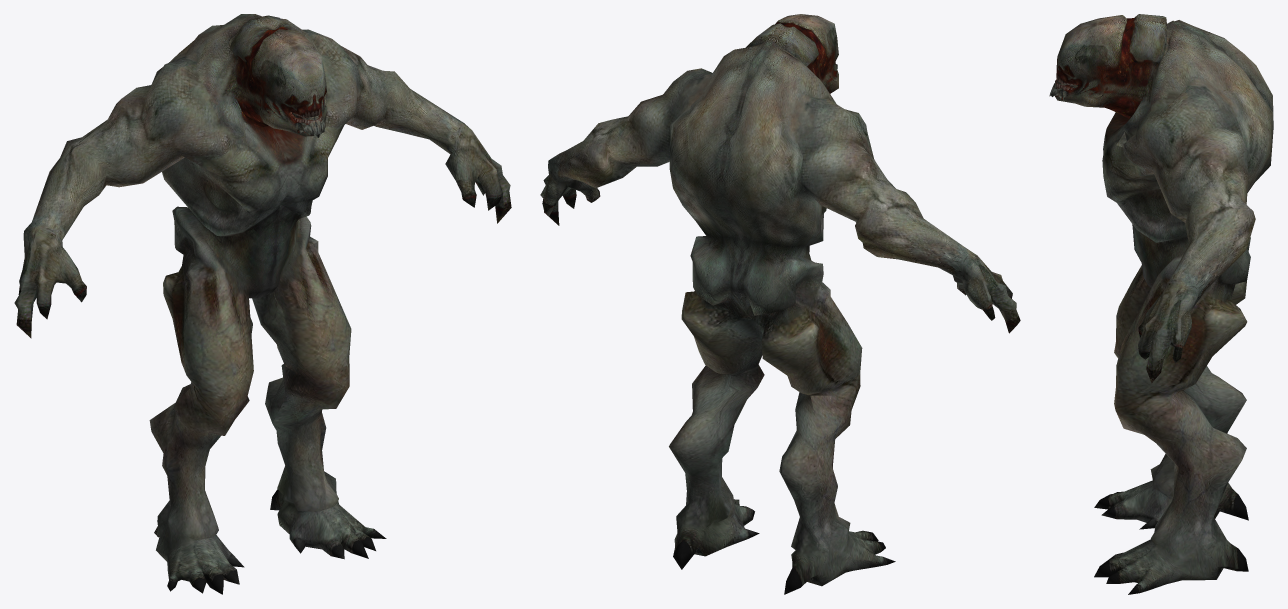
File: hellknight.DAE
The picture shows the model from 3 angles, left to right: view 1: azimuth 30°, elevation 25°; view 2: azimuth 150°, elevation 25°; view 3: azimuth 270°, elevation 25°; orthographic projection. The views are drawn at different scales.
Visible parts, largest first — view 1: hellknight; view 2: hellknight; view 3: hellknight.
Part boxes in pixels (x1,y1,x2,y2): hellknight: (14,14,511,594); hellknight: (540,14,1020,594); hellknight: (1049,14,1273,594).
Size of the model in its own units: 126 by 50.61 by 132.
